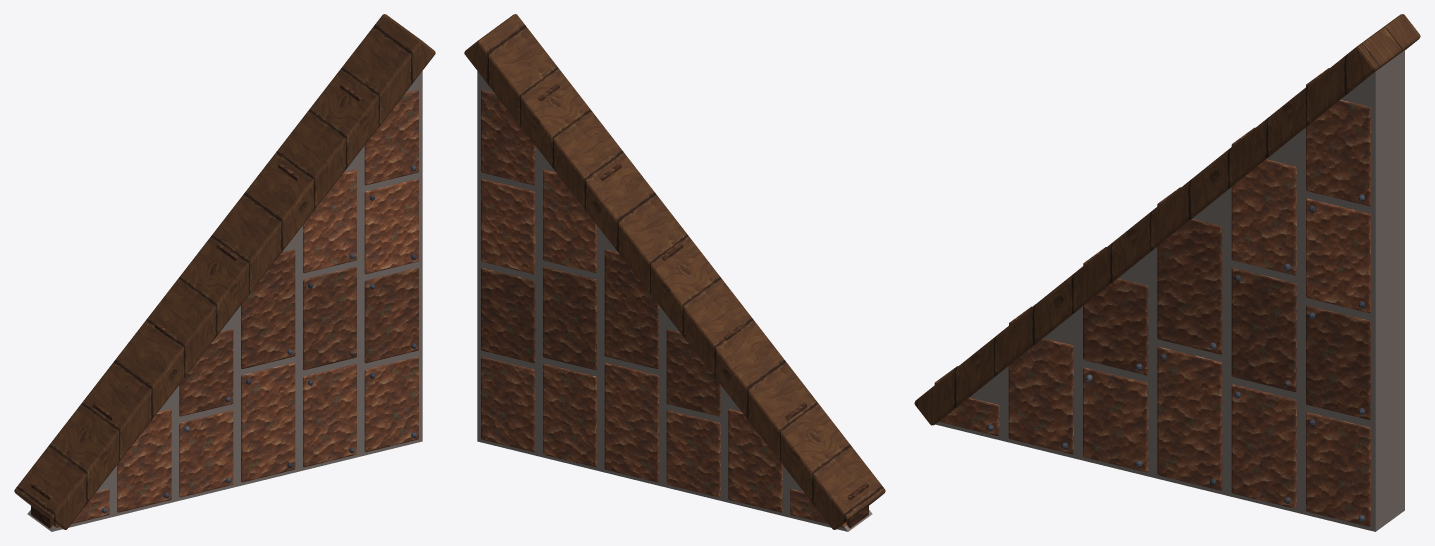
File: gable_45__copper_ingot.glb
3 renders of one model, left to right at view 1: azimuth 30°, elevation 25°; view 2: azimuth 150°, elevation 25°; view 3: azimuth 330°, elevation 25°, orthographic. The views are drawn at different scales.
Parts seen in each view (by area): view 1: model; view 2: model; view 3: model.
Boxes of the visible parts, x1,y1,x2,y2 form: model: [14, 14, 435, 531]; model: [464, 14, 885, 531]; model: [914, 14, 1420, 531].
Size of the model in its own units: 2.07 by 2.1 by 0.36.
9 materials, 8 textured.
